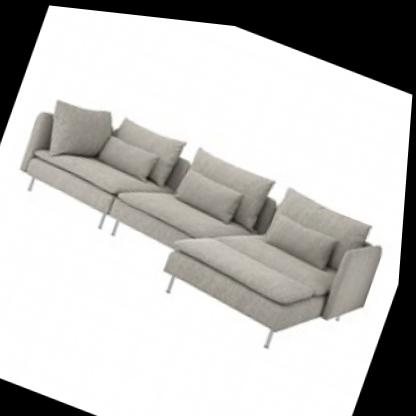Sofa: (0, 49, 413, 394)
